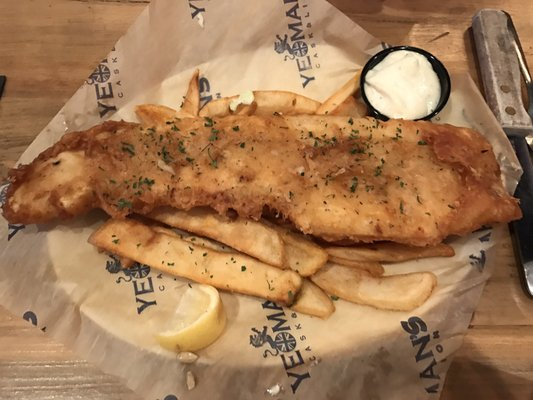sandwich: (470, 8, 533, 301)
